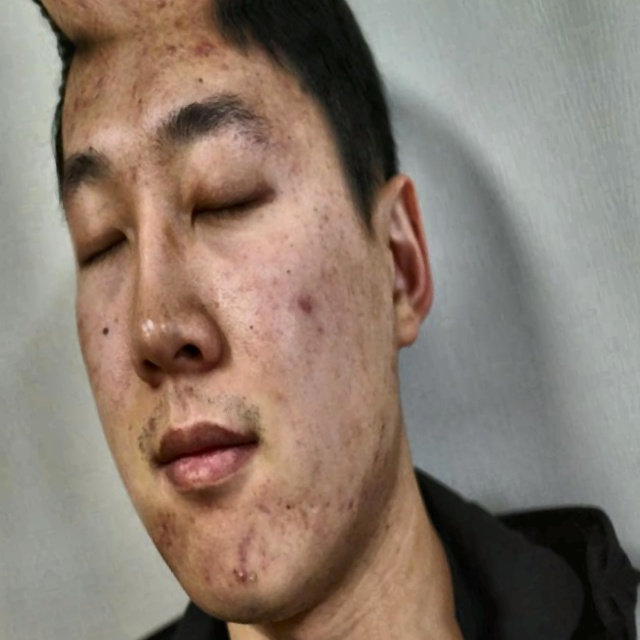comedone: (182, 25, 221, 70), (225, 553, 255, 608), (288, 287, 320, 332), (170, 0, 208, 14)
